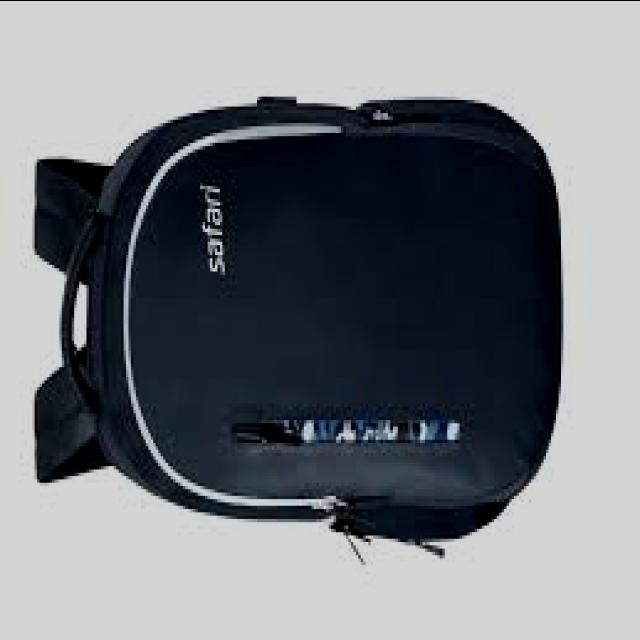backpack: (31, 97, 563, 562)
